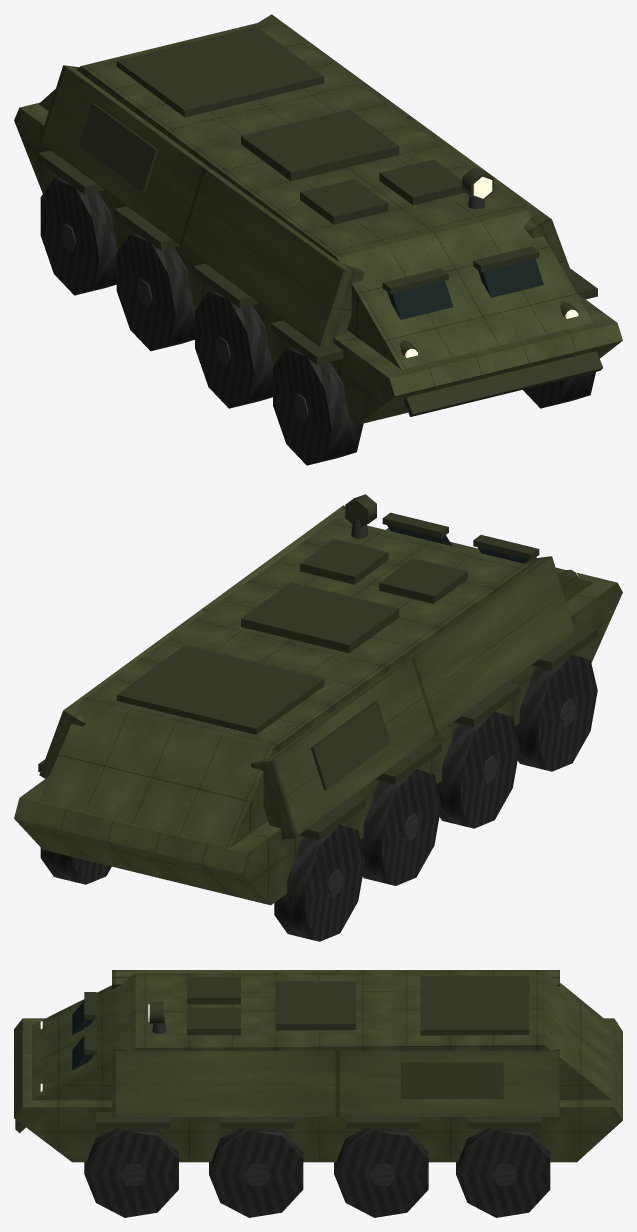
File: btr60pb_lod2.glb
3 views of the same model, one above another, from view 1: azimuth 30°, elevation 25°; view 2: azimuth 150°, elevation 25°; view 3: azimuth 270°, elevation 25° (orthographic). The views are drawn at different scales.
Visible parts, largest first — view 1: BTR60_8x8_APC; view 2: BTR60_8x8_APC; view 3: BTR60_8x8_APC.
Boxes of the visible parts, bbox=[...] form: BTR60_8x8_APC: bbox=[14, 14, 622, 465]; BTR60_8x8_APC: bbox=[14, 494, 622, 941]; BTR60_8x8_APC: bbox=[14, 970, 622, 1217].
Bounding box in the file's own units: 2.98 × 2.37 × 7.
6 materials, 3 textured.
